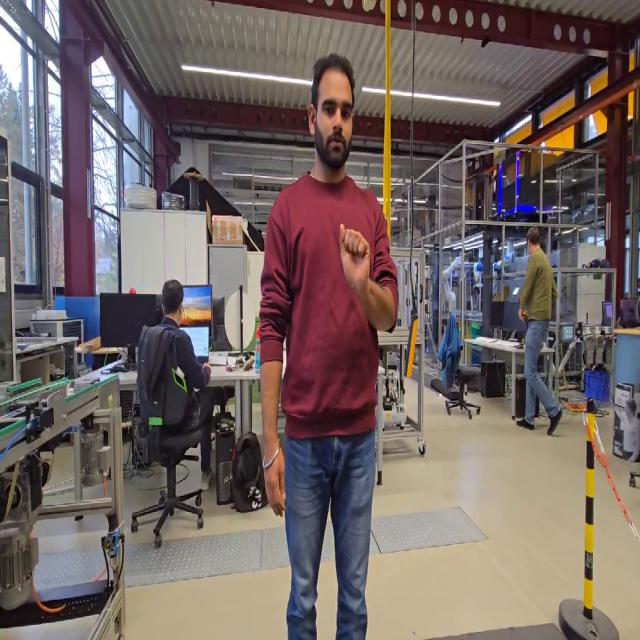closed_fist: (336, 217, 374, 299)
